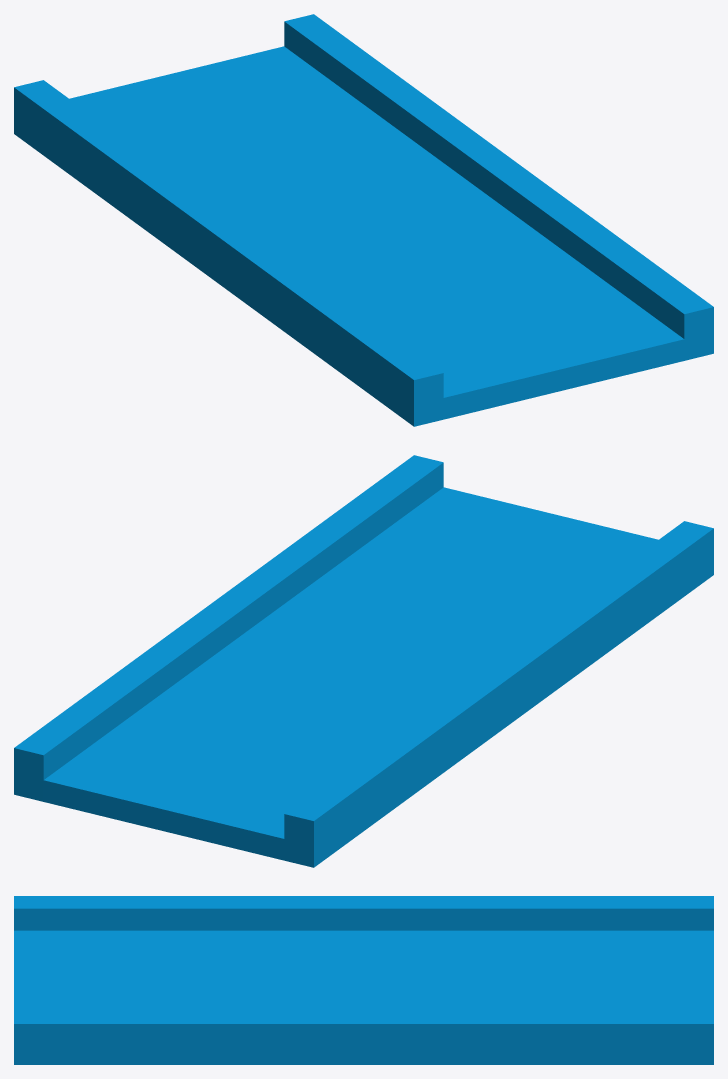
The model's file is Bridge_01.fbx.
The picture shows the model from 3 angles, top to bottom: view 1: azimuth 30°, elevation 25°; view 2: azimuth 150°, elevation 25°; view 3: azimuth 270°, elevation 25°; orthographic projection. The views are drawn at different scales.
Visible parts, largest first — view 1: Bridge_01; view 2: Bridge_01; view 3: Bridge_01.
Boxes of the visible parts, <box> form: Bridge_01: <box>14,14,713,426</box>; Bridge_01: <box>14,455,713,867</box>; Bridge_01: <box>14,896,713,1064</box>.
Bounding box in the file's own units: 15.31 × 2.28 × 35.4.
